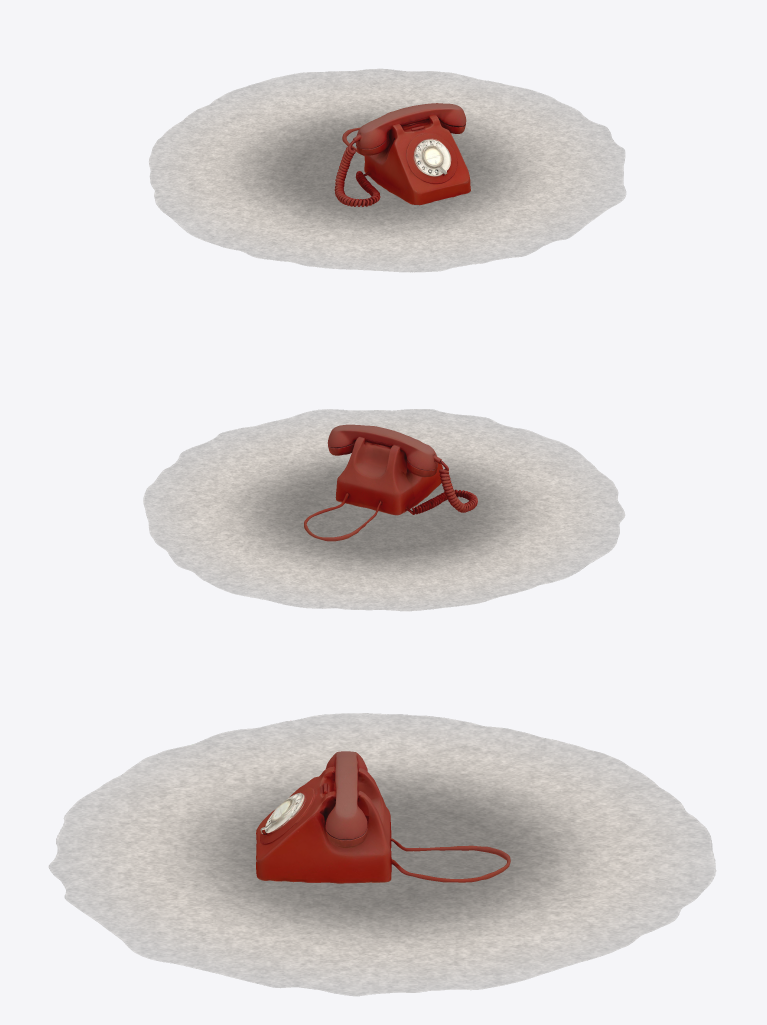
Rendered from telefono-disco.glb.
The picture shows the model from 3 angles, top to bottom: view 1: azimuth 30°, elevation 25°; view 2: azimuth 150°, elevation 25°; view 3: azimuth 270°, elevation 25°; orthographic projection. The views are drawn at different scales.
Parts seen in each view (by area): view 1: Terreno, Televisor; view 2: Terreno, Televisor; view 3: Terreno, Televisor.
Part boxes in pixels (x1,y1,x2,y2): Terreno: [149, 68, 626, 272]; Televisor: [334, 103, 470, 206]; Terreno: [143, 409, 625, 611]; Televisor: [304, 424, 477, 541]; Terreno: [48, 713, 716, 996]; Televisor: [256, 751, 510, 883].
Size of the model in its own units: 2.98 by 0.4236 by 2.98.
Materials: 2 (2 with a texture image).
